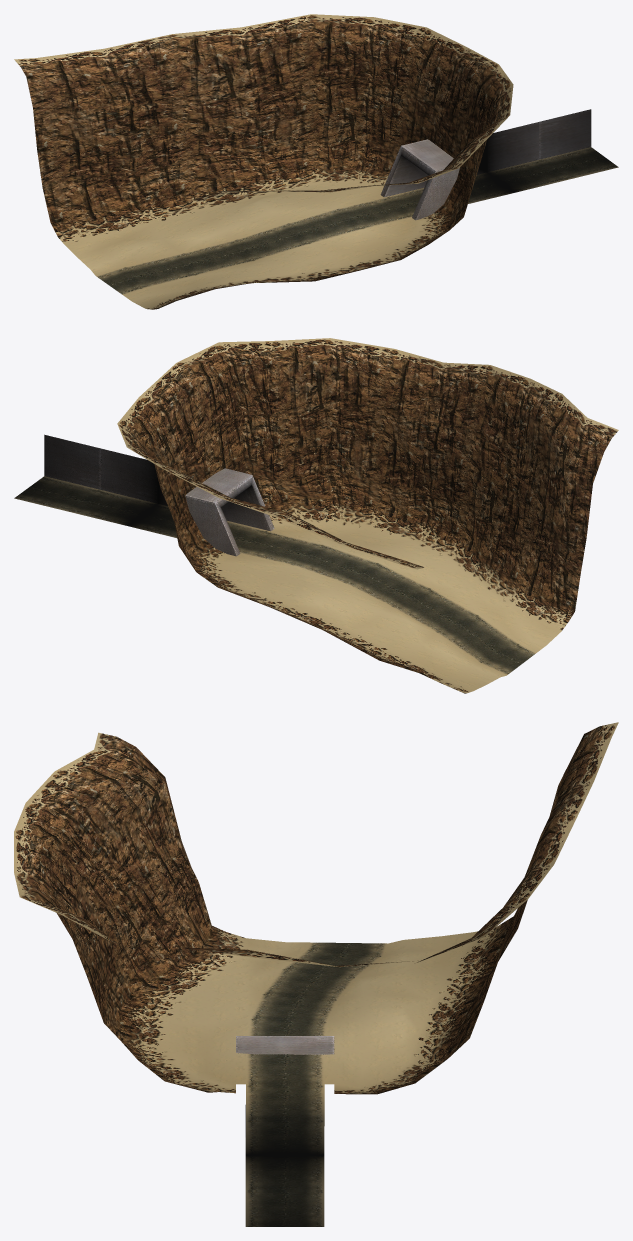
File: Mission8_Zone01D.glb
3 renders of one model, top to bottom at view 1: azimuth 30°, elevation 25°; view 2: azimuth 150°, elevation 25°; view 3: azimuth 270°, elevation 25°, orthographic. The views are drawn at different scales.
Visible parts, largest first — view 1: MISSION8_ZONE01D050, MISSION8_ZONE01D048, MISSION8_ZONE01D046, MISSION8_ZONE01D051, MISSION8_ZONE01D052, MISSION8_ZONE01D049, MISSION8_ZONE01D045, MISSION8_ZONE01D039, MISSION8_ZONE01D047, MISSION8_ZONE01D029, MISSION8_ZONE01D032, MISSION8_ZONE01D031 (+32 smaller); view 2: MISSION8_ZONE01D011, MISSION8_ZONE01D004, MISSION8_ZONE01D013, MISSION8_ZONE01D019, MISSION8_ZONE01D008, MISSION8_ZONE01D010, MISSION8_ZONE01D006, MISSION8_ZONE01D012, MISSION8_ZONE01D029, MISSION8_ZONE01D007, MISSION8_ZONE01D009, MISSION8_ZONE01D003 (+36 smaller); view 3: MISSION8_ZONE01D007, MISSION8_ZONE01D008, MISSION8_ZONE01D006, MISSION8_ZONE01D029, MISSION8_ZONE01D003, MISSION8_ZONE01D013, MISSION8_ZONE01D009, MISSION8_ZONE01D028, MISSION8_ZONE01D031, MISSION8_ZONE01D032, MISSION8_ZONE01D002, MISSION8_ZONE01D016 (+30 smaller).
Part boxes in pixels (<box>): MISSION8_ZONE01D050: <box>110,40,197,206</box>; MISSION8_ZONE01D048: <box>33,75,144,236</box>; MISSION8_ZONE01D046: <box>311,23,390,184</box>; MISSION8_ZONE01D051: <box>172,27,253,157</box>; MISSION8_ZONE01D052: <box>241,23,316,124</box>; MISSION8_ZONE01D049: <box>51,72,144,217</box>; MISSION8_ZONE01D045: <box>252,108,320,196</box>; MISSION8_ZONE01D039: <box>364,40,455,168</box>; MISSION8_ZONE01D047: <box>363,17,426,143</box>; MISSION8_ZONE01D029: <box>384,55,514,203</box>; MISSION8_ZONE01D032: <box>539,109,618,179</box>; MISSION8_ZONE01D031: <box>487,122,566,192</box>; MISSION8_ZONE01D011: <box>276,348,381,524</box>; MISSION8_ZONE01D004: <box>332,349,443,458</box>; MISSION8_ZONE01D013: <box>510,474,586,631</box>; MISSION8_ZONE01D019: <box>189,354,291,511</box>; MISSION8_ZONE01D008: <box>420,429,512,573</box>; MISSION8_ZONE01D010: <box>333,434,425,541</box>; MISSION8_ZONE01D006: <box>536,408,618,537</box>; MISSION8_ZONE01D012: <box>219,341,330,478</box>; MISSION8_ZONE01D029: <box>153,368,251,525</box>; MISSION8_ZONE01D007: <box>489,408,576,560</box>; MISSION8_ZONE01D009: <box>376,439,466,559</box>; MISSION8_ZONE01D003: <box>425,362,489,467</box>; MISSION8_ZONE01D007: <box>69,762,175,966</box>; MISSION8_ZONE01D008: <box>79,860,193,1020</box>; MISSION8_ZONE01D006: <box>80,732,183,867</box>; MISSION8_ZONE01D029: <box>236,1036,333,1154</box>; MISSION8_ZONE01D003: <box>14,832,102,954</box>; MISSION8_ZONE01D013: <box>156,794,249,957</box>; MISSION8_ZONE01D009: <box>87,922,187,1046</box>; MISSION8_ZONE01D028: <box>246,1054,334,1117</box>; MISSION8_ZONE01D031: <box>245,1155,324,1190</box>; MISSION8_ZONE01D032: <box>245,1191,324,1226</box>; MISSION8_ZONE01D002: <box>14,803,98,881</box>; MISSION8_ZONE01D016: <box>168,997,249,1047</box>.
Bounding box in the file's own units: 78.48 × 26.17 × 61.58.
8 materials, 8 textured.
